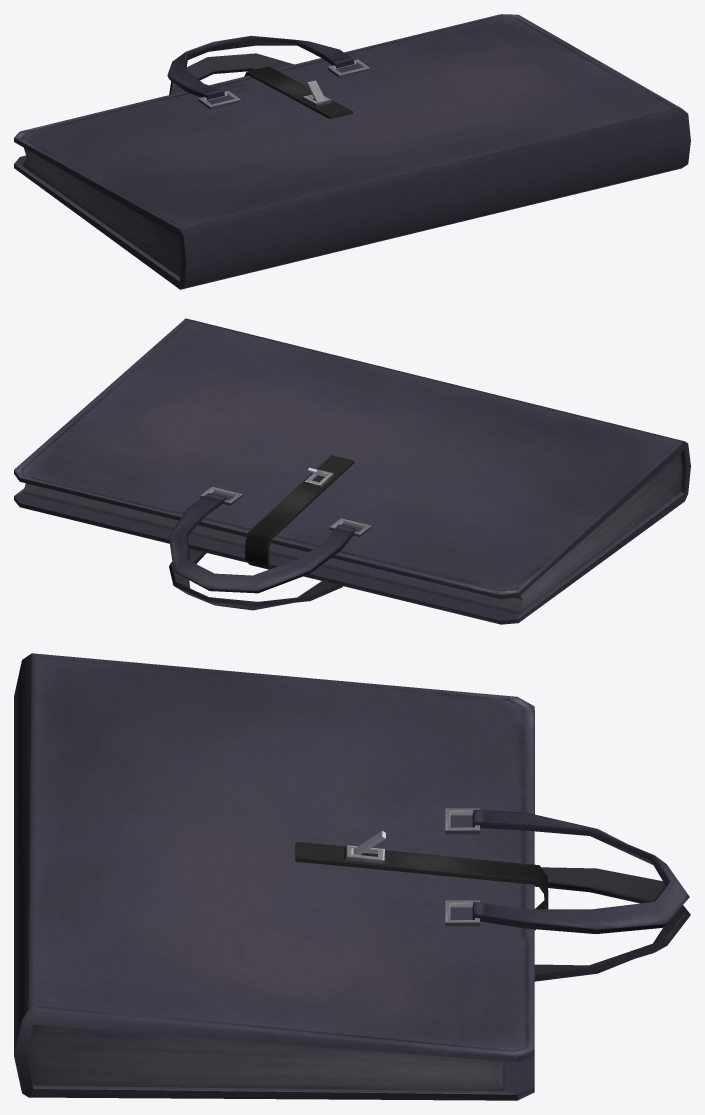
The model's file is ZhiBanShi_01_gongwenbao_01.FBX.
The picture shows the model from 3 angles, top to bottom: view 1: azimuth 30°, elevation 25°; view 2: azimuth 150°, elevation 25°; view 3: azimuth 270°, elevation 25°; orthographic projection. The views are drawn at different scales.
Parts seen in each view (by area): view 1: ZhiBanShi_gongwenbao_01; view 2: ZhiBanShi_gongwenbao_01; view 3: ZhiBanShi_gongwenbao_01.
Boxes of the visible parts, x1,y1,x2,y2 form: ZhiBanShi_gongwenbao_01: [14, 14, 690, 289]; ZhiBanShi_gongwenbao_01: [14, 318, 690, 624]; ZhiBanShi_gongwenbao_01: [14, 653, 690, 1100].
Size of the model in its own units: 192 by 24.96 by 153.
